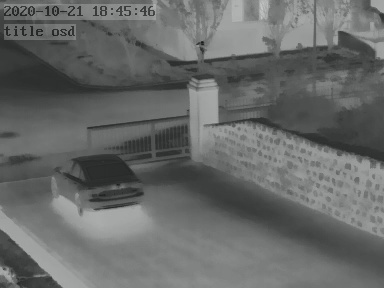vehicle: (58, 150, 142, 213)
